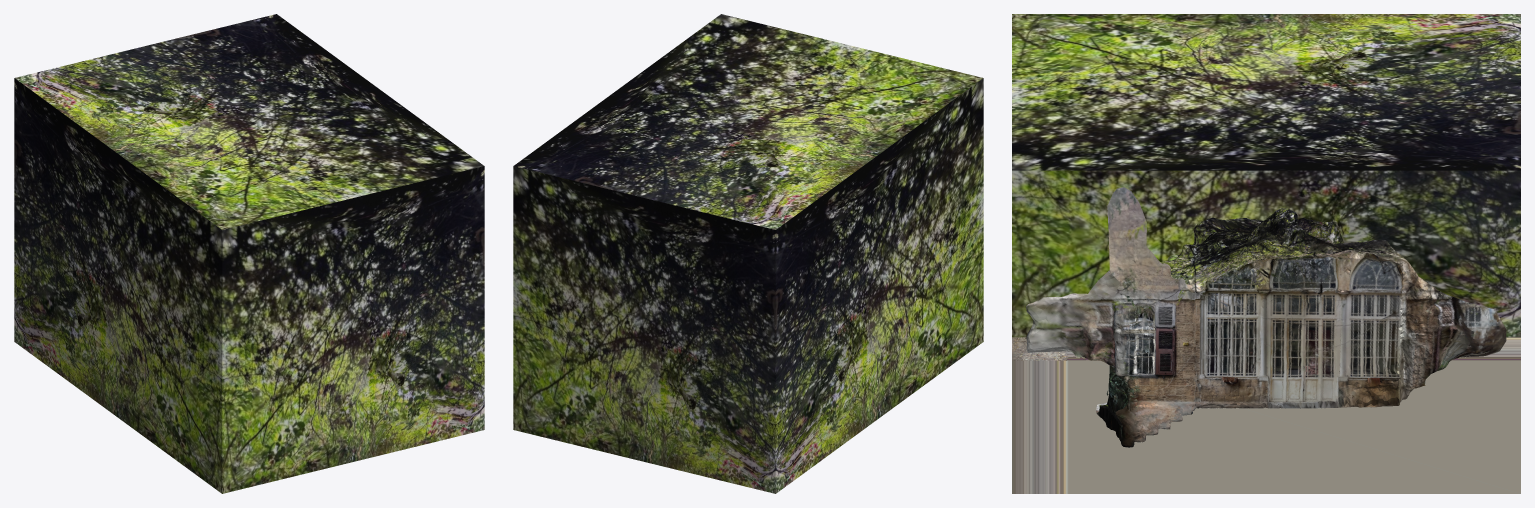
The model's file is courtyard.fbx.
The picture shows the model from 3 angles, left to right: view 1: azimuth 30°, elevation 25°; view 2: azimuth 150°, elevation 25°; view 3: azimuth 270°, elevation 25°; orthographic projection. The views are drawn at different scales.
Visible parts, largest first — view 1: Greenery_Fill (holes + surround); view 2: Greenery_Fill (holes + surround); view 3: Greenery_Fill (holes + surround), Courtyard_Scan (house facade, fountain, plants), Floor_Fill.
Boxes of the visible parts, x1=… form: Greenery_Fill (holes + surround): x1=14, y1=14, x2=484, y2=493; Greenery_Fill (holes + surround): x1=513, y1=14, x2=983, y2=493; Greenery_Fill (holes + surround): x1=1012, y1=14, x2=1520, y2=337; Courtyard_Scan (house facade, fountain, plants): x1=1026, y1=187, x2=1506, y2=447; Floor_Fill: x1=1012, y1=337, x2=1520, y2=493.
Bounding box in the file's own units: 390 × 375 × 535.
3 materials, 3 textured.
